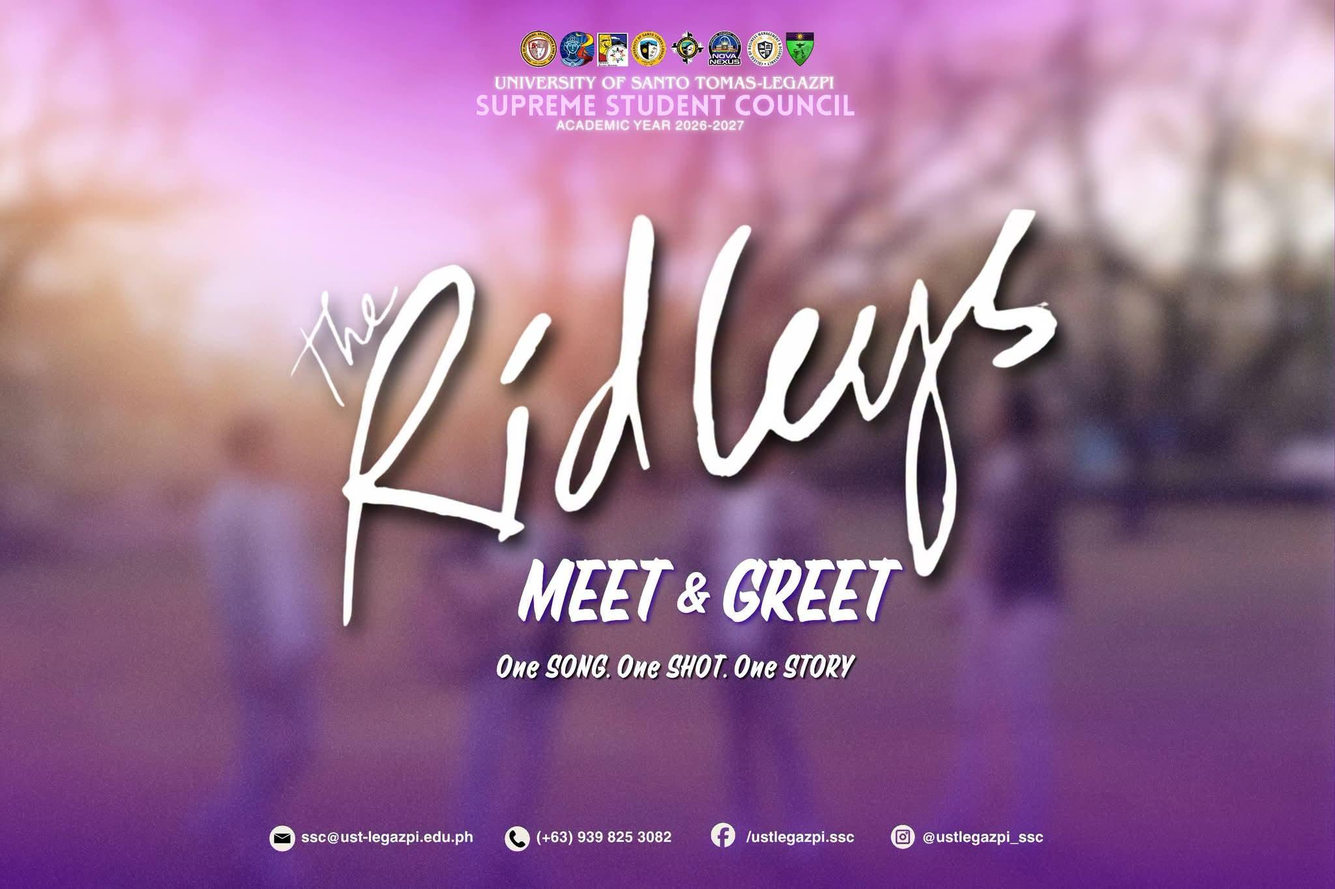embellishment: (501, 822, 533, 853), (267, 822, 296, 856), (706, 820, 738, 849), (889, 822, 917, 851)
logo: (518, 26, 559, 70), (559, 28, 597, 70), (631, 29, 668, 69), (594, 30, 631, 69), (747, 29, 784, 68), (706, 29, 744, 66), (668, 29, 705, 66), (784, 29, 816, 69)
text: (275, 195, 1077, 643), (508, 549, 903, 632), (473, 71, 858, 134), (487, 643, 864, 685), (299, 829, 479, 848), (536, 825, 677, 847), (744, 825, 860, 848), (922, 828, 1049, 849)
